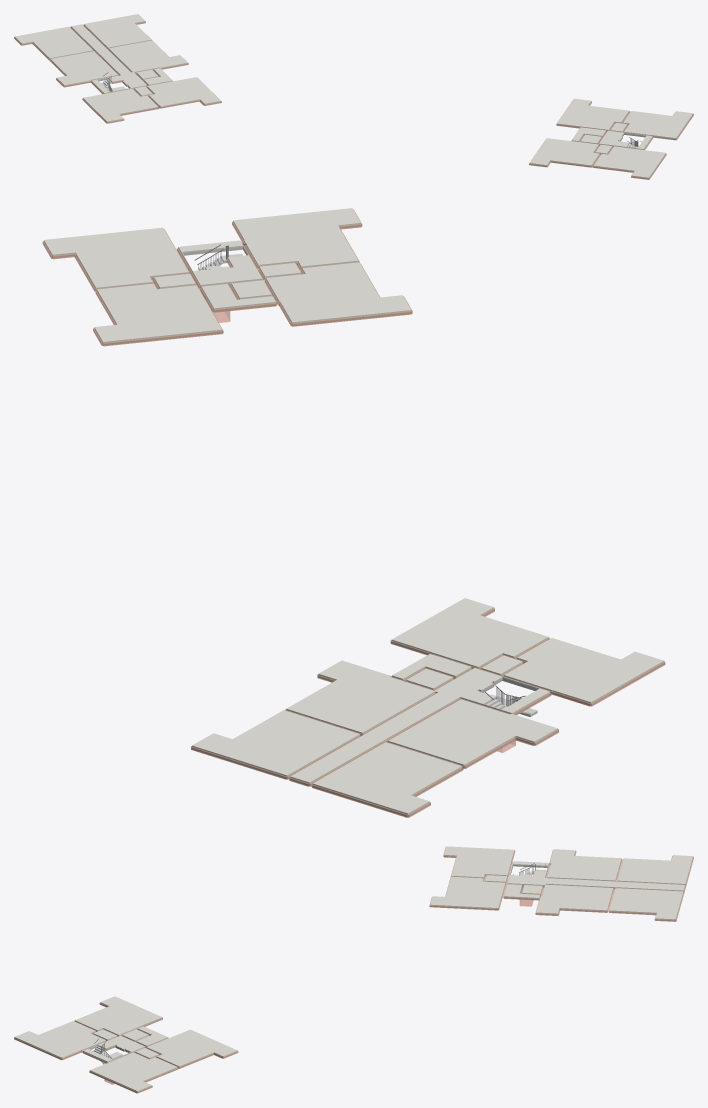
File: stage-3.glb
3 views of the same model, one above another, from view 1: azimuth 30°, elevation 25°; view 2: azimuth 150°, elevation 25°; view 3: azimuth 270°, elevation 25° (orthographic). The views are drawn at different scales.
Parts seen in each view (by area): view 1: Geom3D (×4); view 2: Geom3D (×4); view 3: Geom3D (×4).
Part boxes in pixels (x1,y1,x2,y2): Geom3D (×4): (14,14,693,179); Geom3D (×4): (42,208,665,817); Geom3D (×4): (14,846,693,1093).
Bounding box in the file's own units: 75.81 × 5.44 × 88.82.
